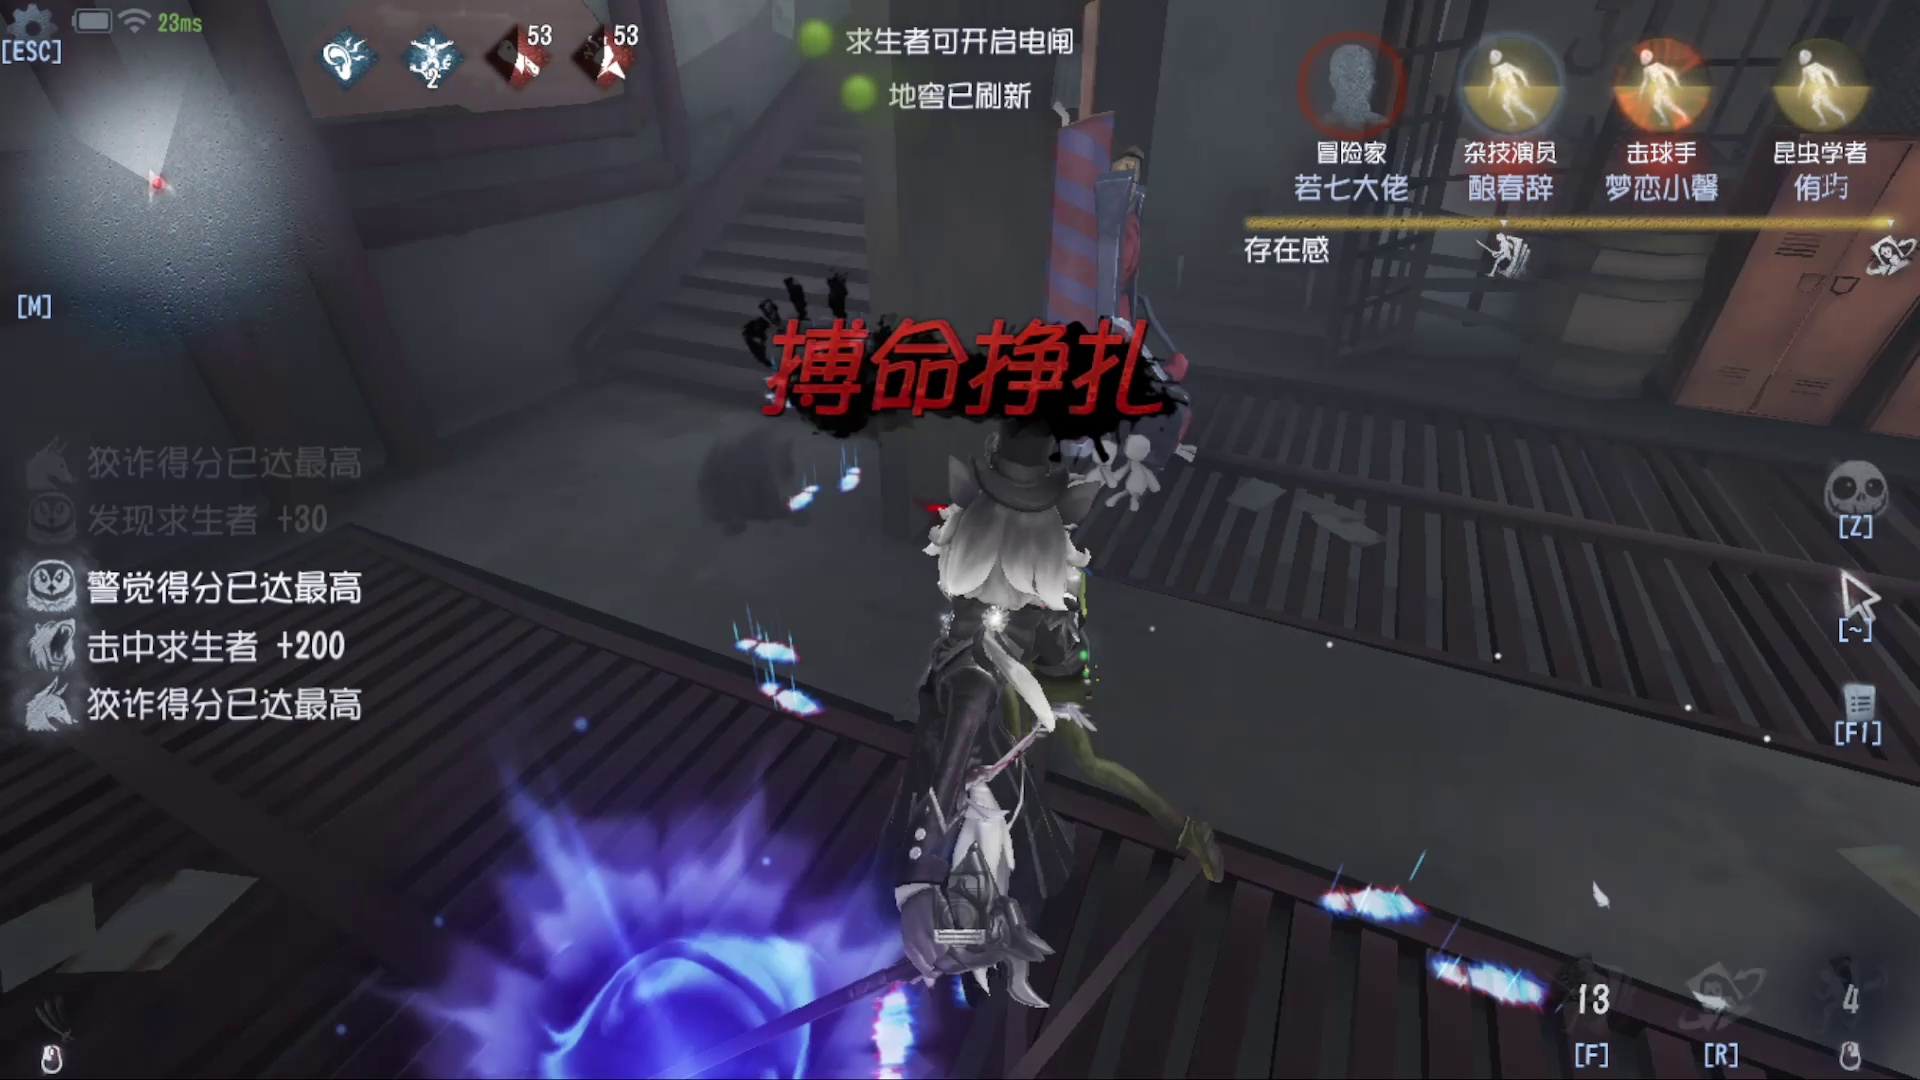狂欢之椅: (1029, 119, 1191, 473)
